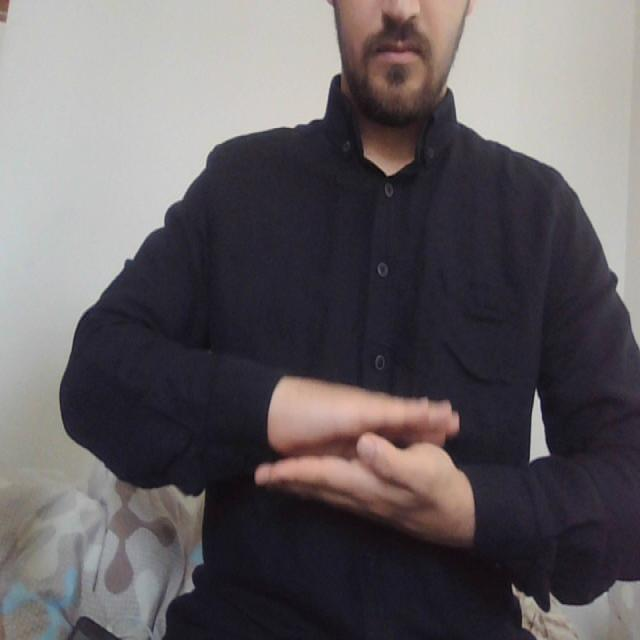Arkadas: (217, 358, 543, 552)
